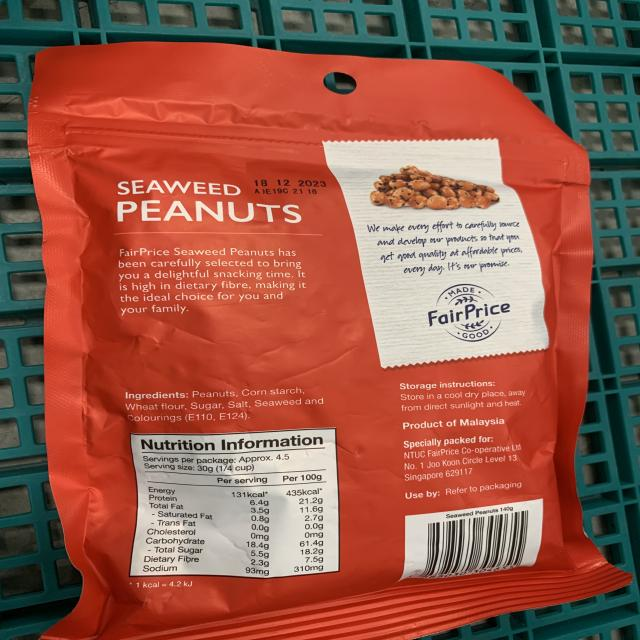object_name: (34, 55, 595, 617)
